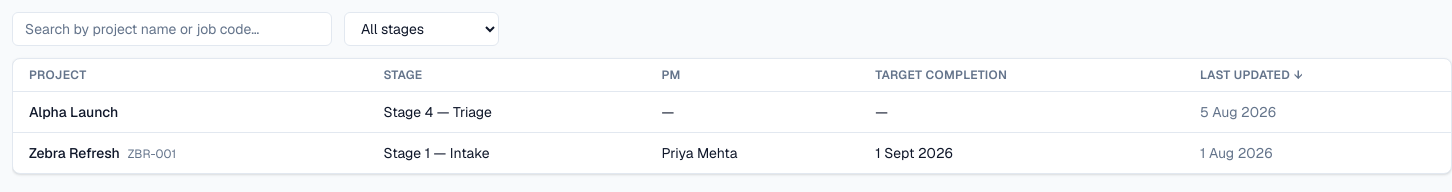
WorkstreamProjectsTable › filters by stage
Step 1. Select "Stage 4 — Triage" in the dropdown named "Filter by stage" → coordinates (422, 29), box [344, 12, 499, 46]
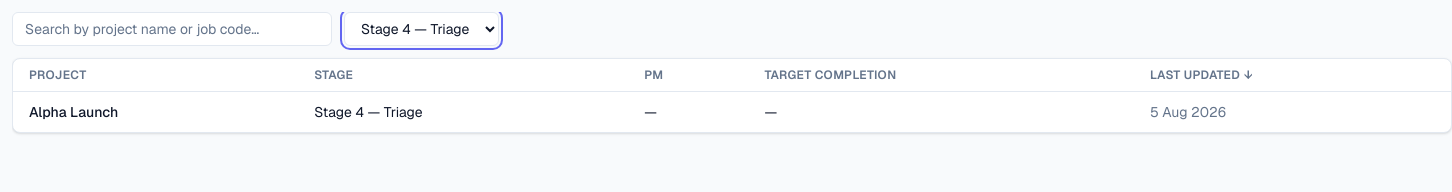
expect the link "Alpha Launch" is shown: met, box [29, 103, 118, 121]
expect the link "Zebra Refresh" is gone: met
